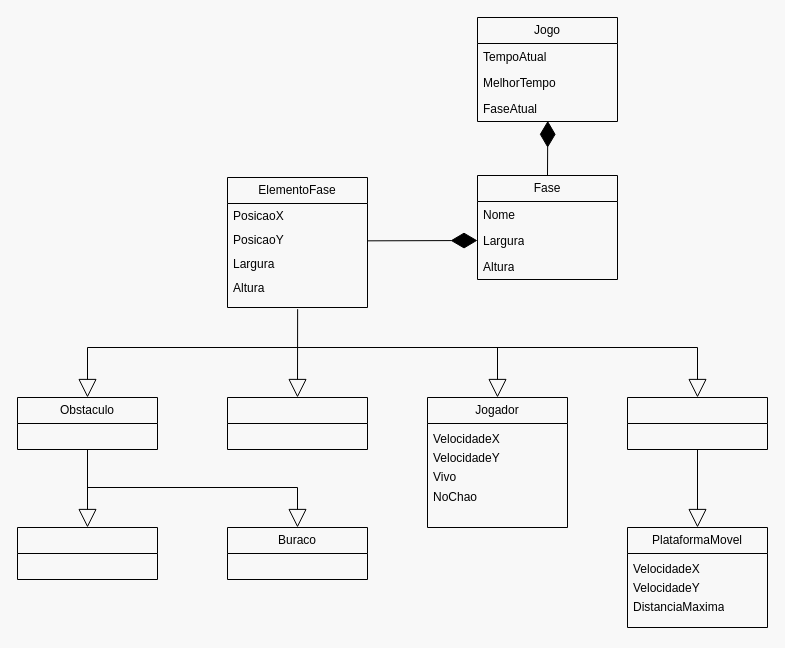
Some shapes in this 785 by 648 pixel diagram are drawn without their labels. The centre of each missing label's shape, as x and y in pixels:
"Espinho" belongs at (87,553).
"Meta" belongs at (297,423).
"Plataforma" belongs at (697,423).
